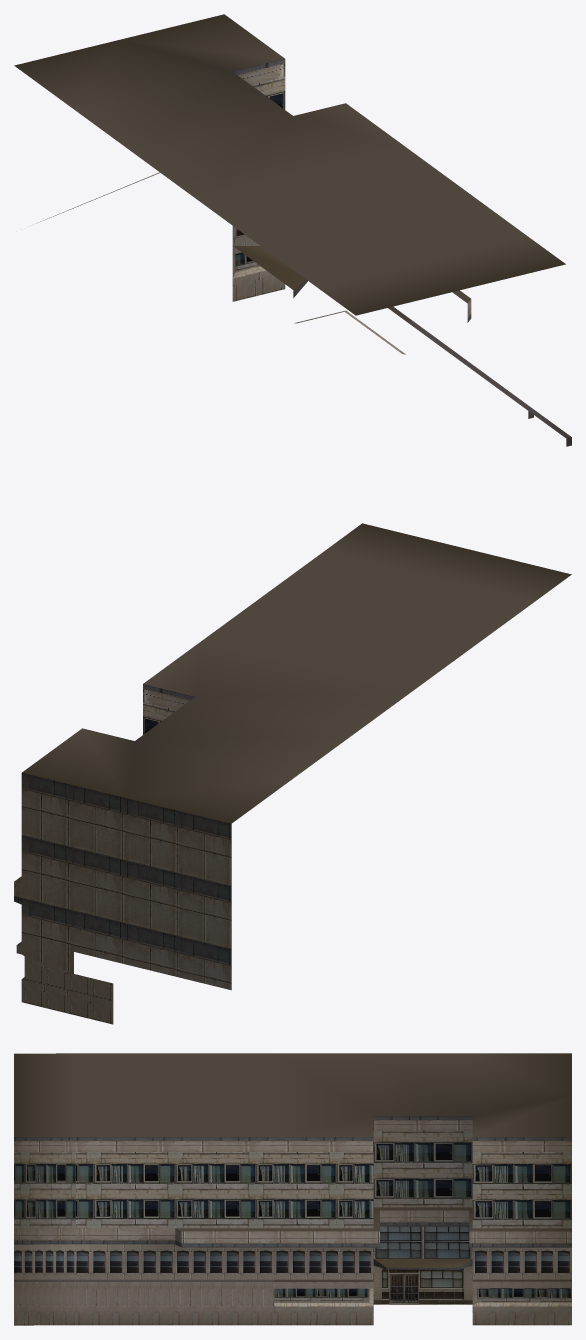
Rendered from M10_Z1_Shop3.glb.
3 views of the same model, one above another, from view 1: azimuth 30°, elevation 25°; view 2: azimuth 150°, elevation 25°; view 3: azimuth 270°, elevation 25° (orthographic). The views are drawn at different scales.
Parts seen in each view (by area): view 1: M10_Z1_SHOP3; view 2: M10_Z1_SHOP3; view 3: M10_Z1_SHOP3.
Boxes of the visible parts, bbox=[...] form: M10_Z1_SHOP3: bbox=[14, 14, 571, 446]; M10_Z1_SHOP3: bbox=[14, 523, 571, 1024]; M10_Z1_SHOP3: bbox=[14, 1053, 571, 1325].
Bounding box in the file's own units: 16.6 × 16.74 × 45.01.
Materials: 7 (7 with a texture image).
